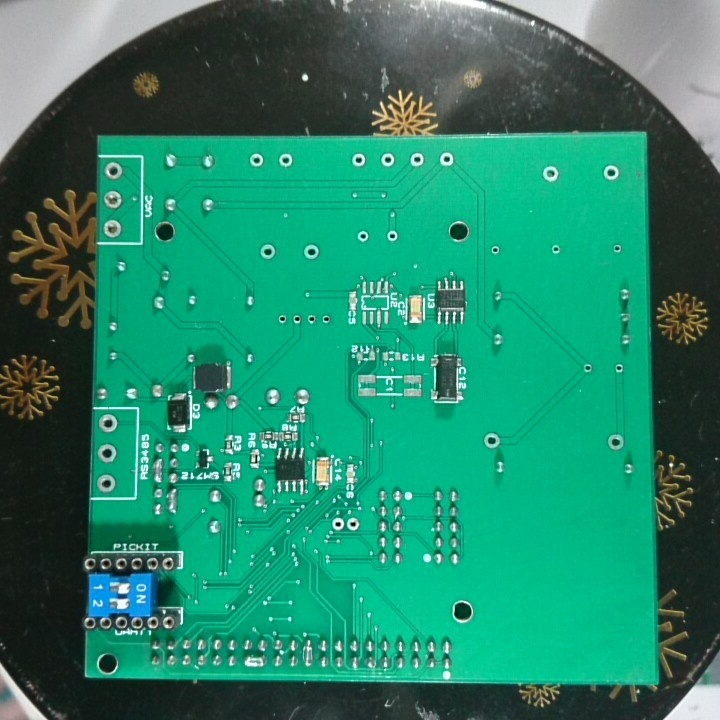F: (100, 218, 125, 240), (102, 189, 125, 212), (479, 429, 502, 452), (96, 442, 118, 466), (96, 470, 117, 495), (97, 412, 119, 435), (103, 160, 125, 182), (257, 241, 277, 264), (599, 160, 619, 183), (302, 242, 322, 264), (348, 150, 368, 172), (540, 163, 560, 185), (437, 150, 457, 171), (606, 432, 626, 452), (277, 150, 295, 172), (408, 149, 425, 172), (383, 226, 402, 246), (378, 150, 397, 170), (247, 151, 265, 171), (328, 515, 345, 534), (345, 515, 361, 535), (354, 229, 371, 246), (579, 362, 597, 378), (303, 312, 318, 330), (488, 243, 505, 258), (289, 312, 304, 328), (548, 242, 563, 258), (610, 241, 625, 256), (319, 311, 332, 328), (612, 360, 625, 377), (274, 312, 288, 326)
P: (300, 636, 315, 670), (242, 653, 268, 669), (165, 486, 179, 515), (151, 455, 165, 483)
